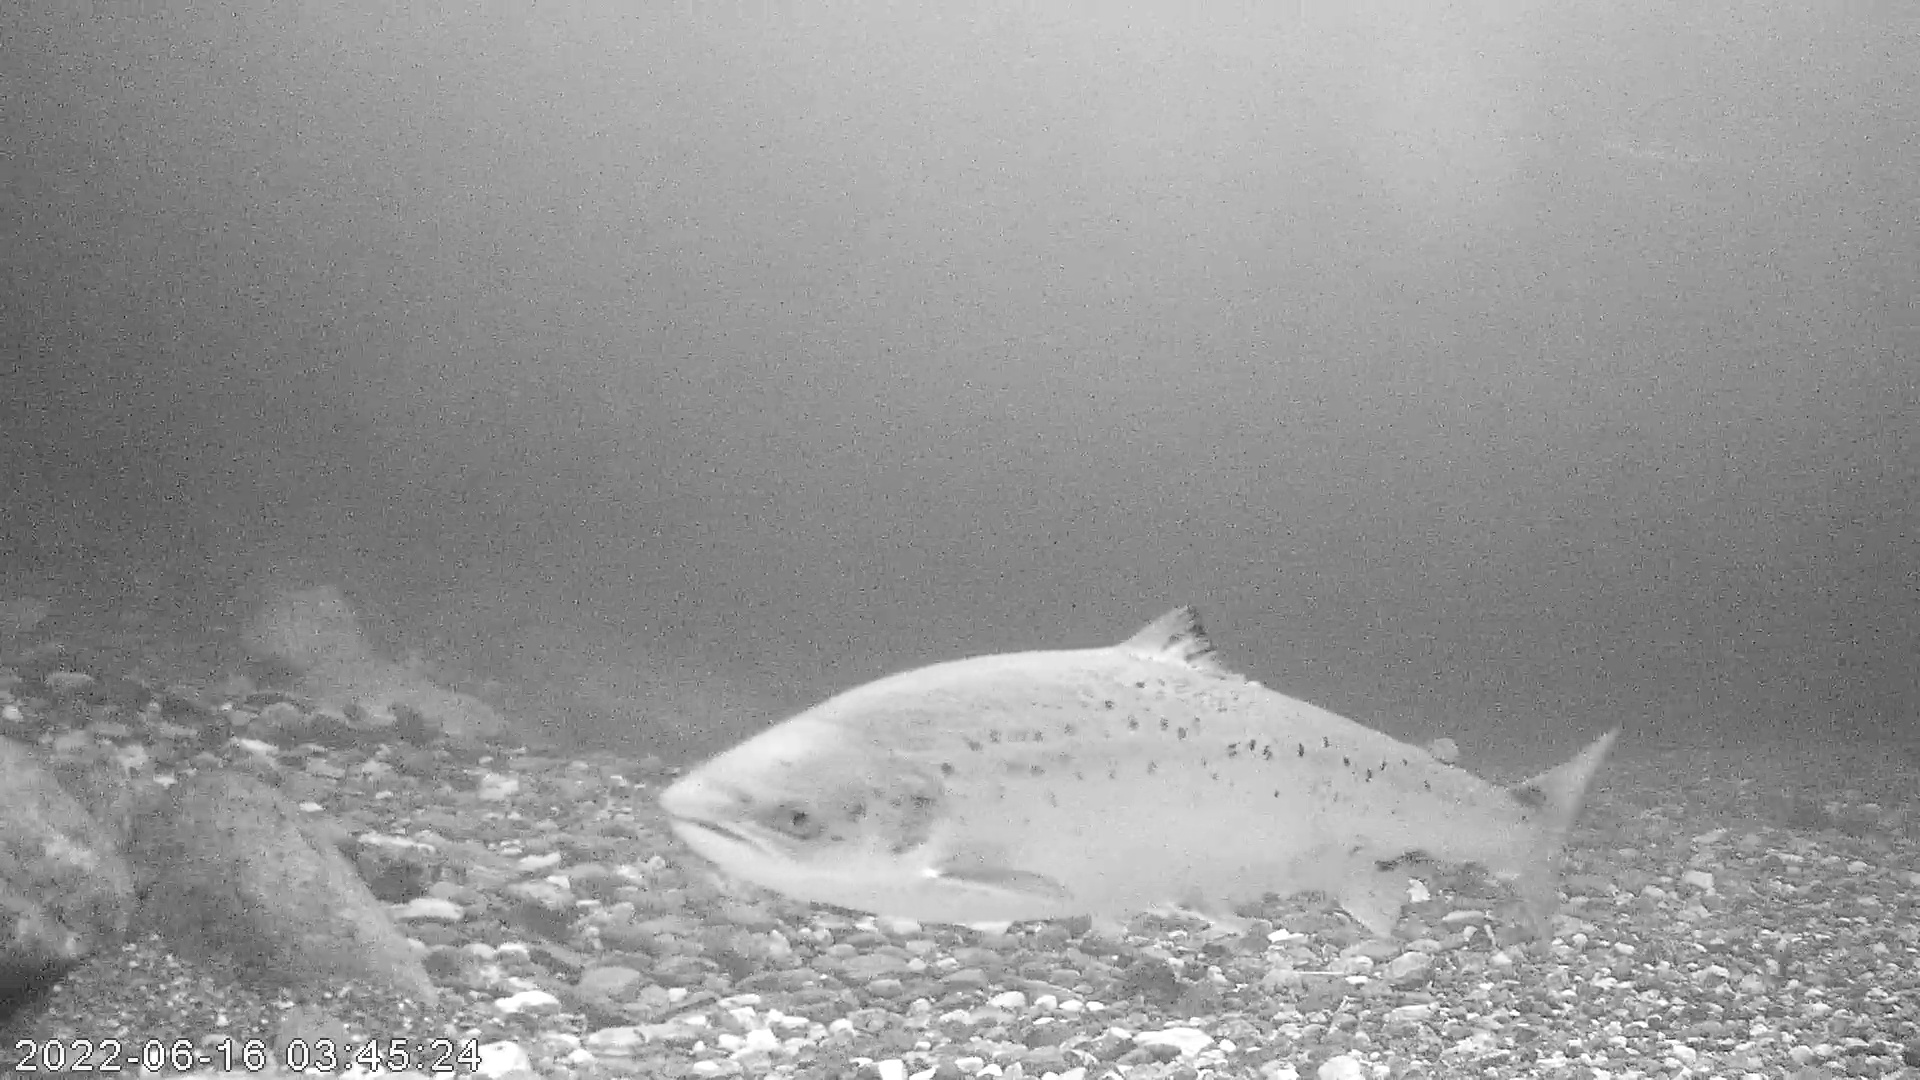salmon: (655, 601, 1623, 939)
